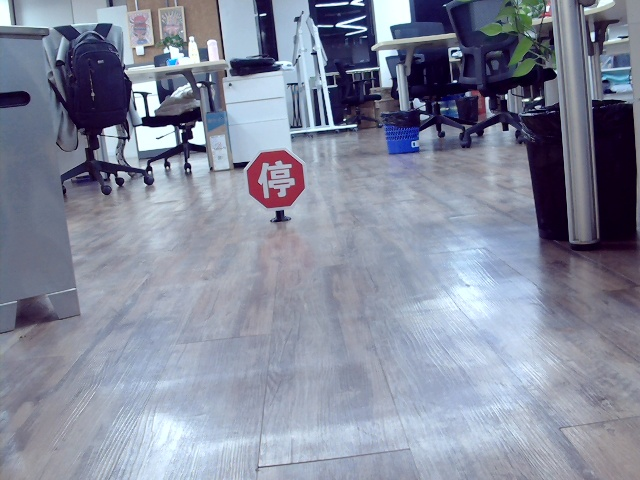stop: (251, 159, 297, 197)
